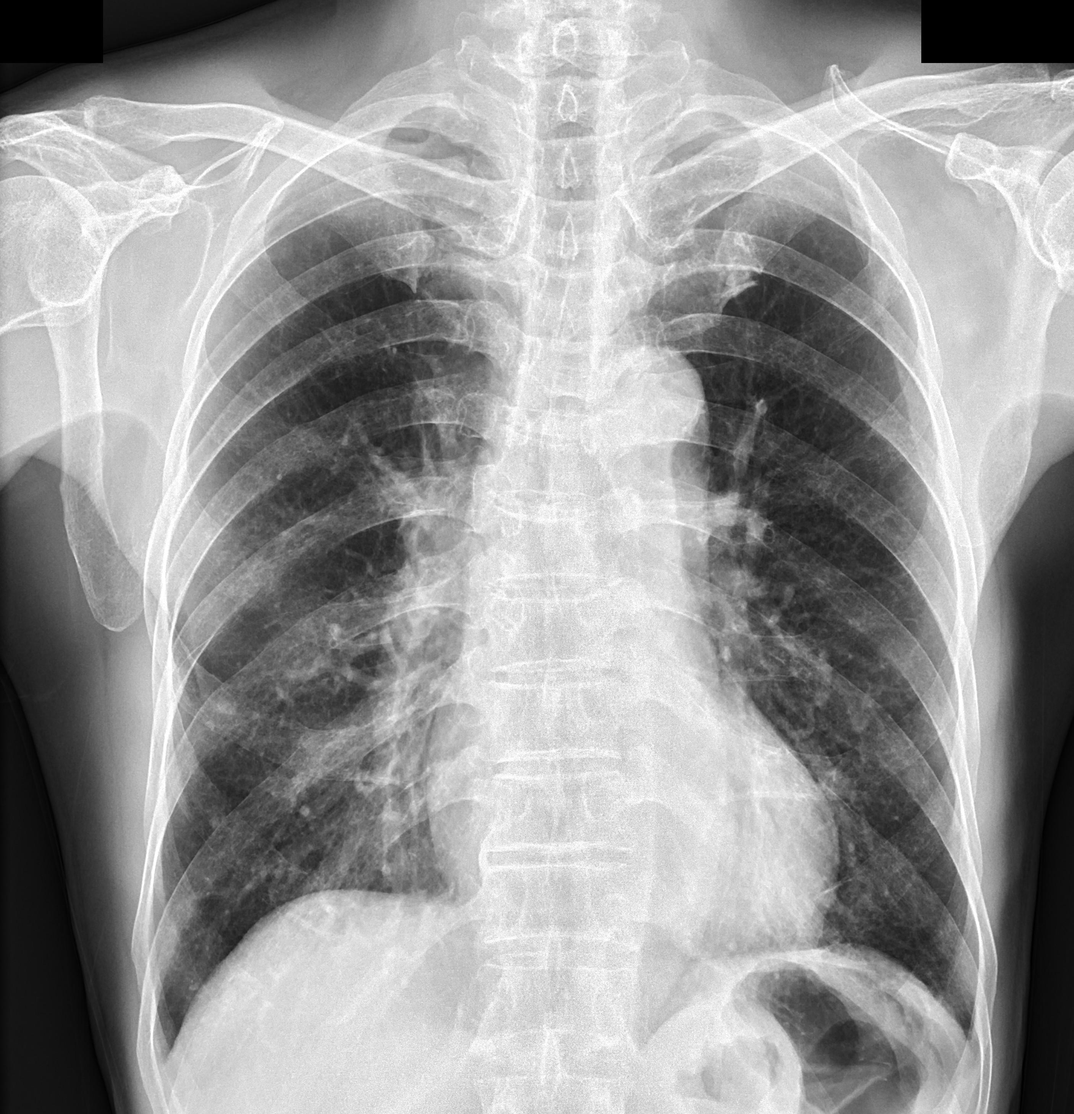Aortic enlargement: (585, 342, 707, 465)
Pleural thickening: (943, 1008, 980, 1058), (145, 1035, 178, 1073)
